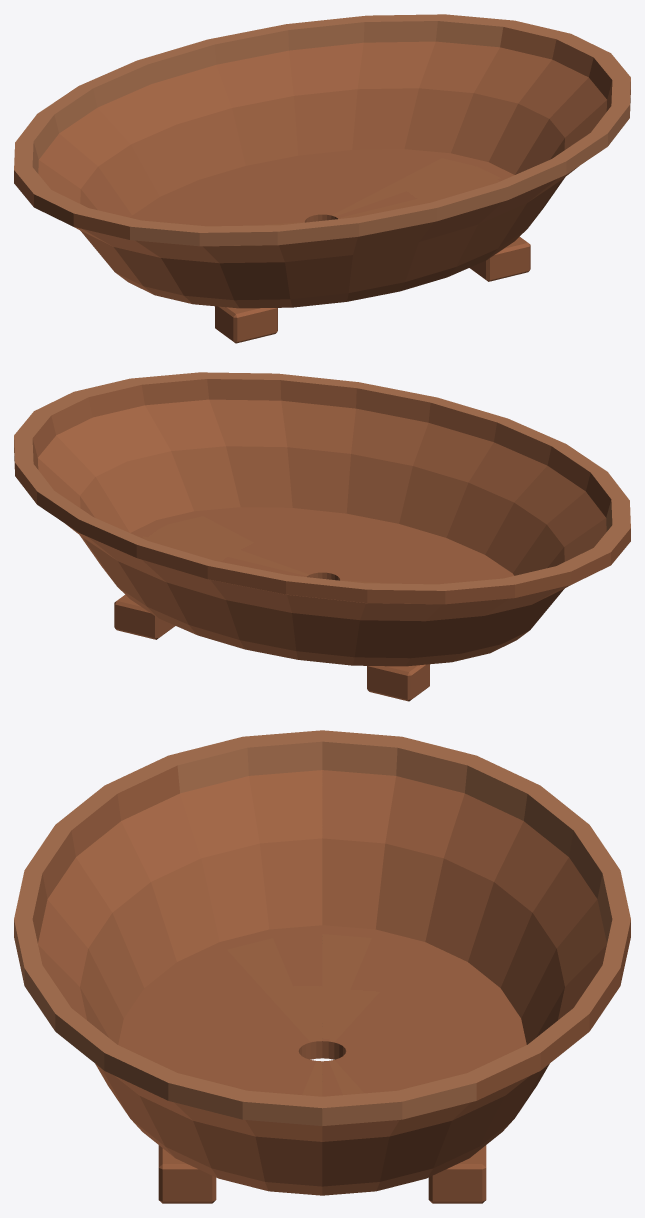
Rendered from vessel-tokoname.glb.
The picture shows the model from 3 angles, top to bottom: view 1: azimuth 30°, elevation 25°; view 2: azimuth 150°, elevation 25°; view 3: azimuth 270°, elevation 25°; orthographic projection. The views are drawn at different scales.
Parts seen in each view (by area): view 1: vessel-tokoname/complete-inner-outer-shell-with-drainage, vessel-tokoname/short-solid-foot-1, vessel-tokoname/short-solid-foot-2; view 2: vessel-tokoname/complete-inner-outer-shell-with-drainage, vessel-tokoname/short-solid-foot-4, vessel-tokoname/short-solid-foot-3; view 3: vessel-tokoname/complete-inner-outer-shell-with-drainage, vessel-tokoname/short-solid-foot-2, vessel-tokoname/short-solid-foot-3.
Part boxes in pixels (<box>): vessel-tokoname/complete-inner-outer-shell-with-drainage: <box>14,14,630,308</box>; vessel-tokoname/short-solid-foot-1: <box>215,306,277,343</box>; vessel-tokoname/short-solid-foot-2: <box>469,236,530,281</box>; vessel-tokoname/complete-inner-outer-shell-with-drainage: <box>14,372,630,666</box>; vessel-tokoname/short-solid-foot-4: <box>367,664,429,701</box>; vessel-tokoname/short-solid-foot-3: <box>114,594,175,639</box>; vessel-tokoname/complete-inner-outer-shell-with-drainage: <box>14,730,630,1195</box>; vessel-tokoname/short-solid-foot-2: <box>158,1145,216,1203</box>; vessel-tokoname/short-solid-foot-3: <box>428,1145,486,1203</box>.
Size of the model in its own units: 0.4508 by 0.105 by 0.3111.
1 material, 1 textured.
